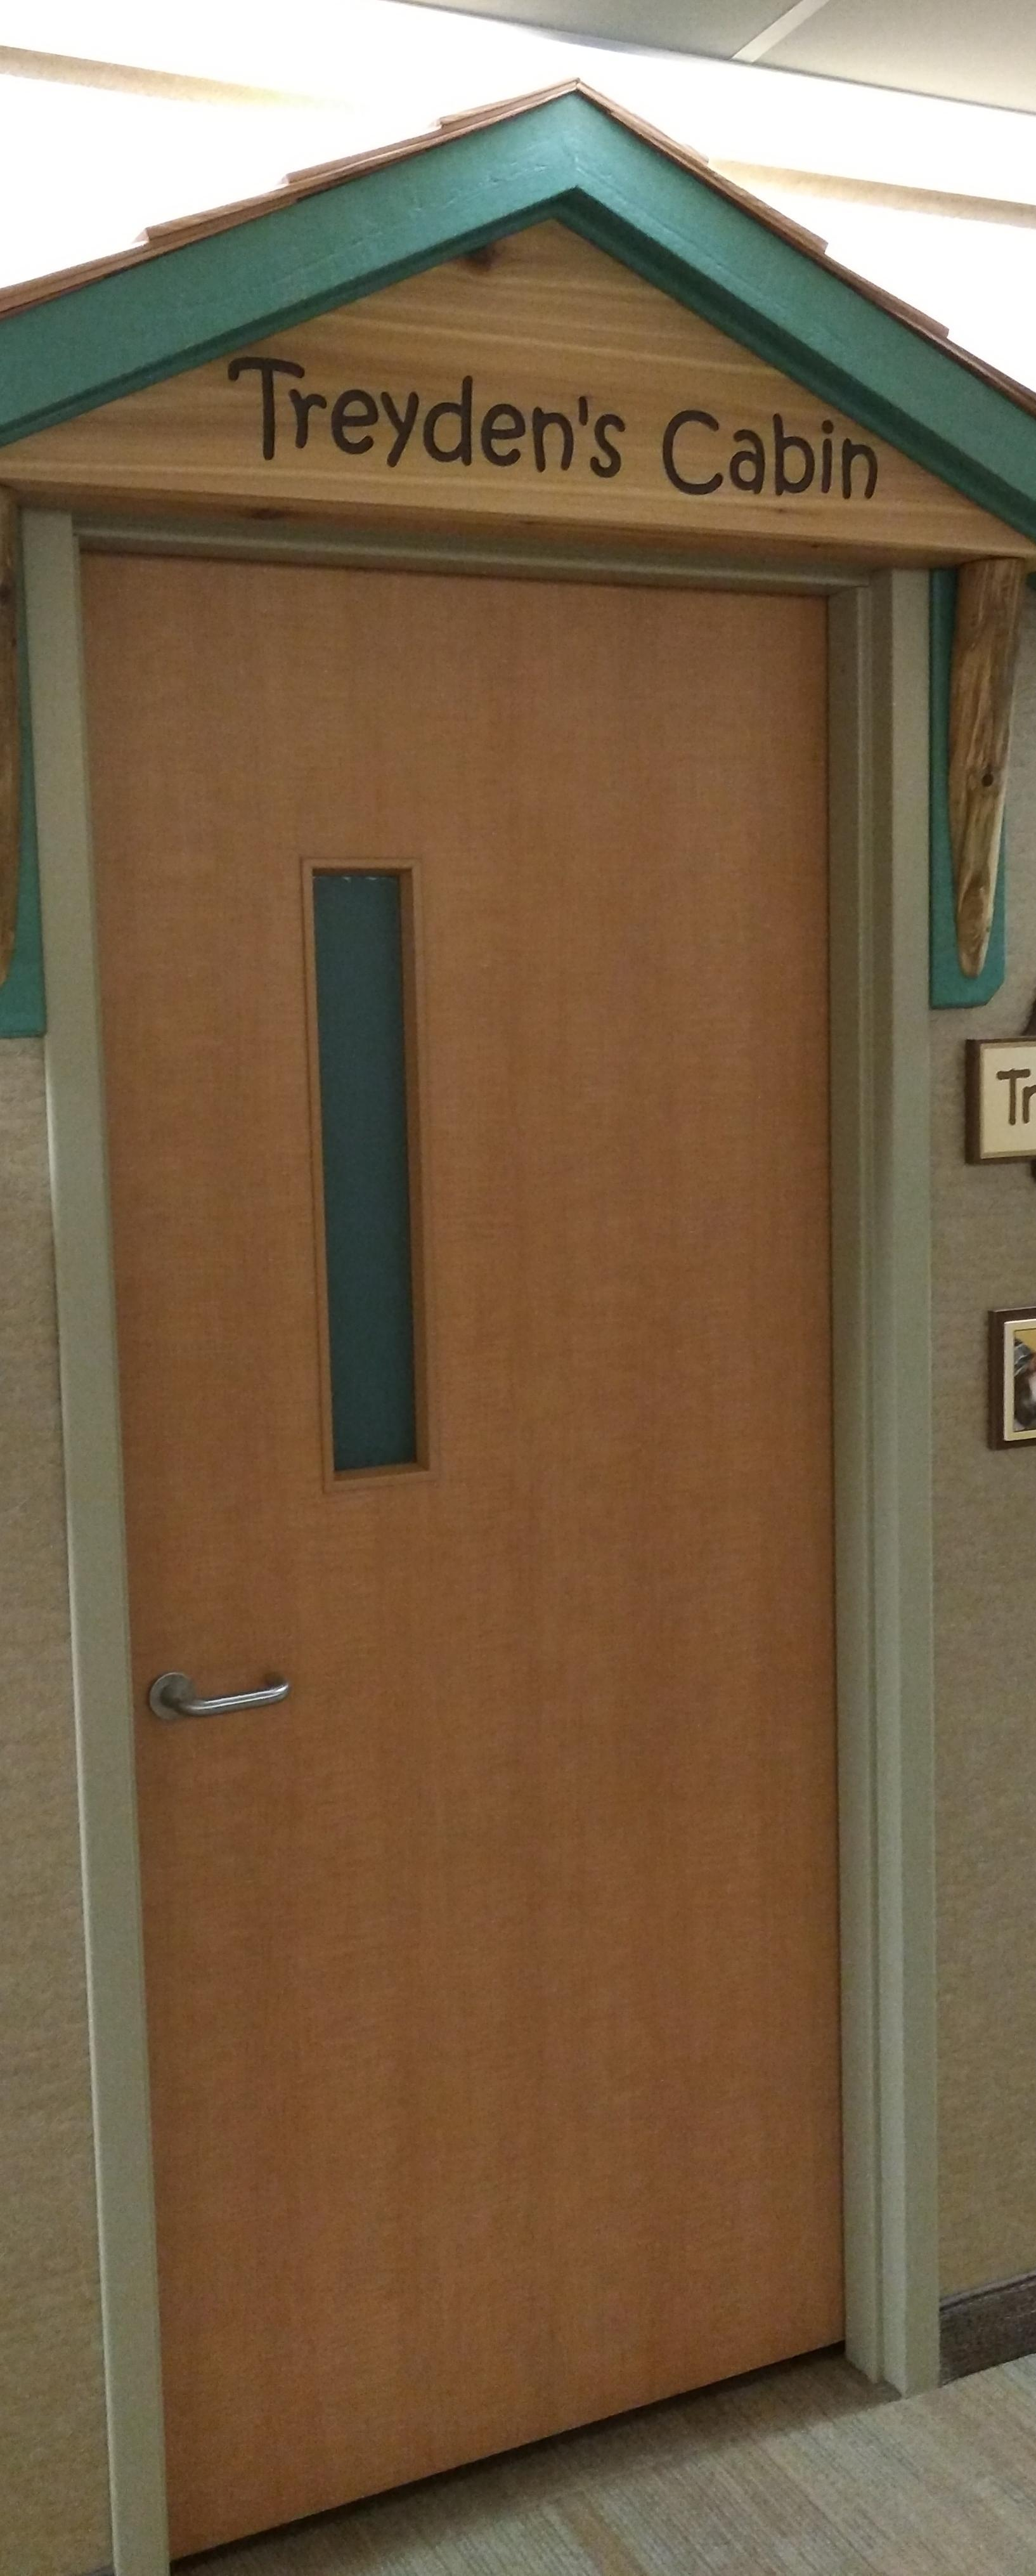door: (28, 506, 959, 2563)
